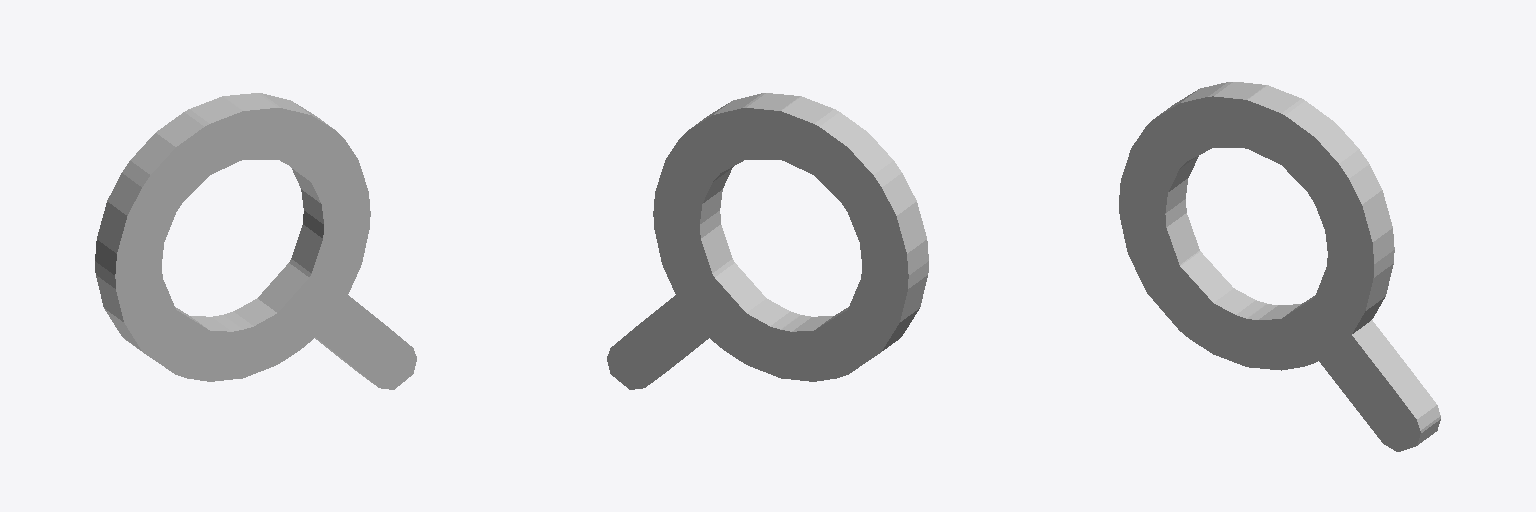
Rendered from fa-search.obj.
3 renders of one model, left to right at view 1: azimuth 30°, elevation 25°; view 2: azimuth 150°, elevation 25°; view 3: azimuth 330°, elevation 25°, orthographic.
Bounding box in the file's own units: 0.9827 × 0.9827 × 0.1152.